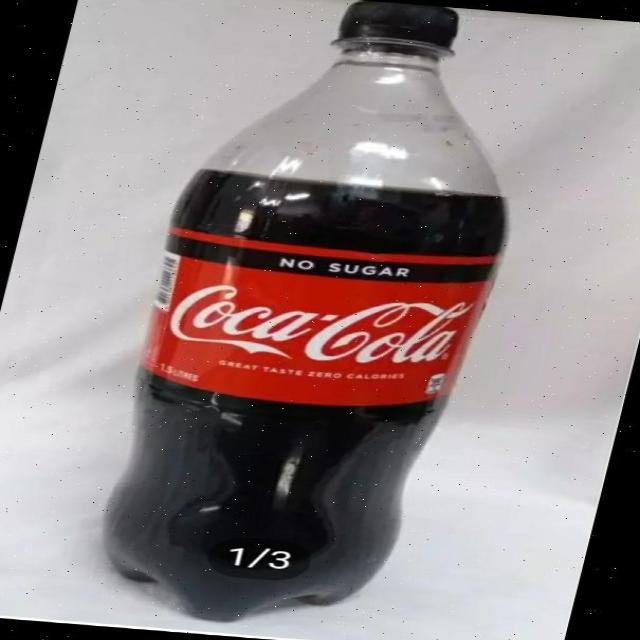coca-cola: (50, 0, 573, 636)
